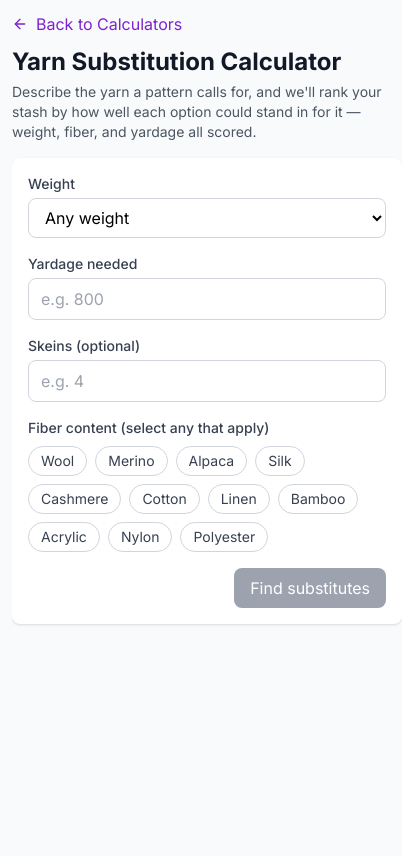
Test: YarnSubstitutionCalculator › enables search after picking a weight
Select "Worsted / Aran (Medium)" in the dropdown at (207, 218), box [28,198,386,238]
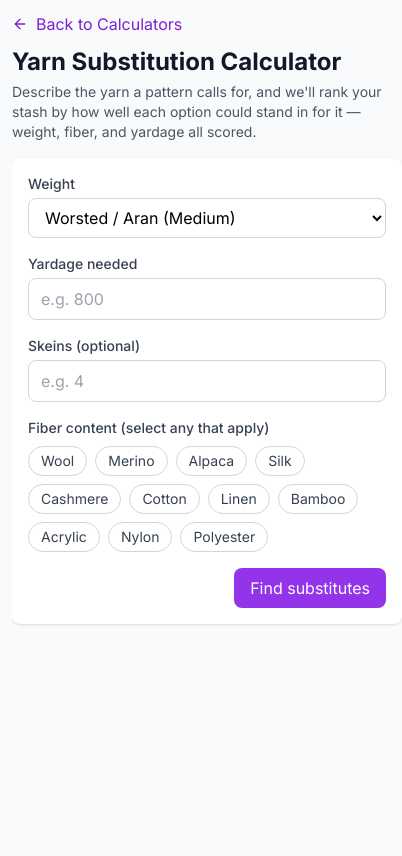
Check: the button "Find substitutes" is enabled, box [234,568,386,608]
